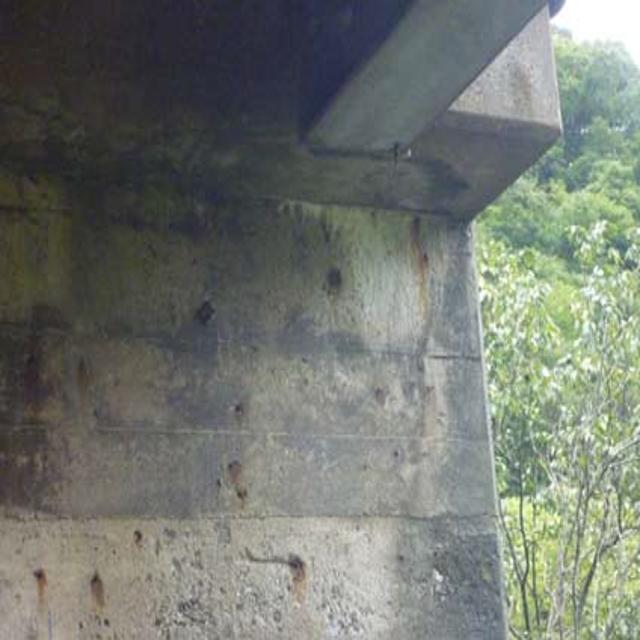freelime: (297, 179, 464, 394)
